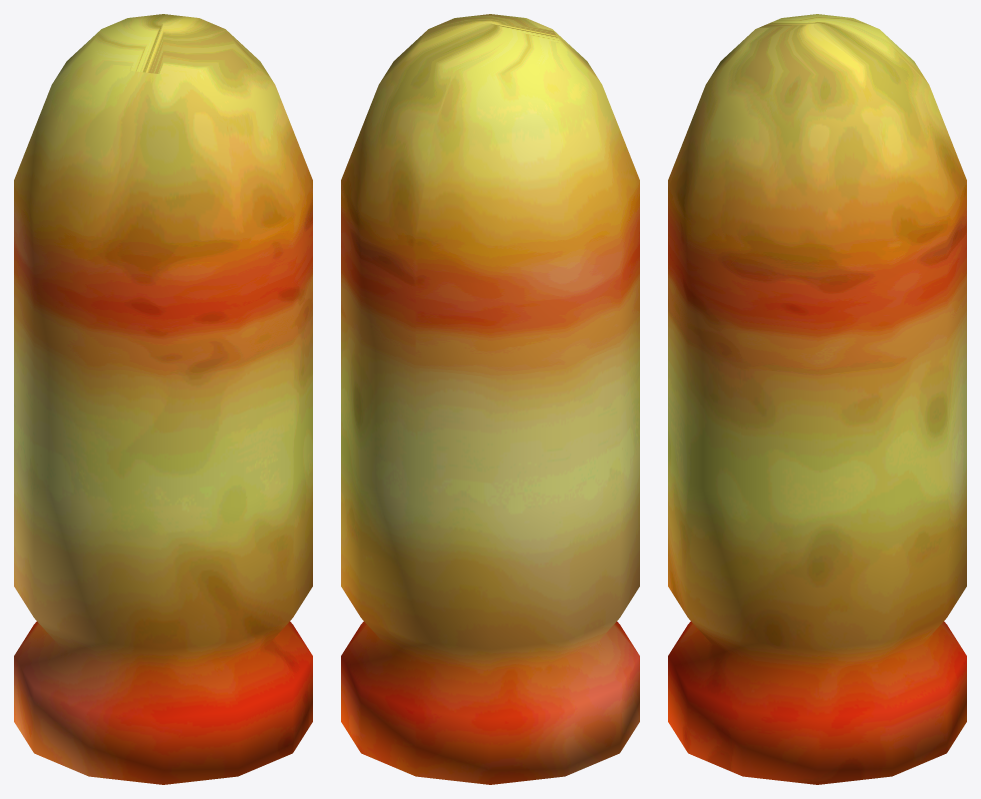
Rendered from bullet.glb.
3 views of the same model, side by side, from view 1: azimuth 30°, elevation 25°; view 2: azimuth 150°, elevation 25°; view 3: azimuth 270°, elevation 25° (orthographic).
Parts seen in each view (by area): view 1: bulletMesh; view 2: bulletMesh; view 3: bulletMesh.
Part boxes in pixels (x1,y1,x2,y2): bulletMesh: (14, 14, 312, 784); bulletMesh: (341, 14, 639, 784); bulletMesh: (668, 14, 966, 784).
Size of the model in its own units: 0.4 by 1.03 by 0.4.
1 material, 1 textured.
